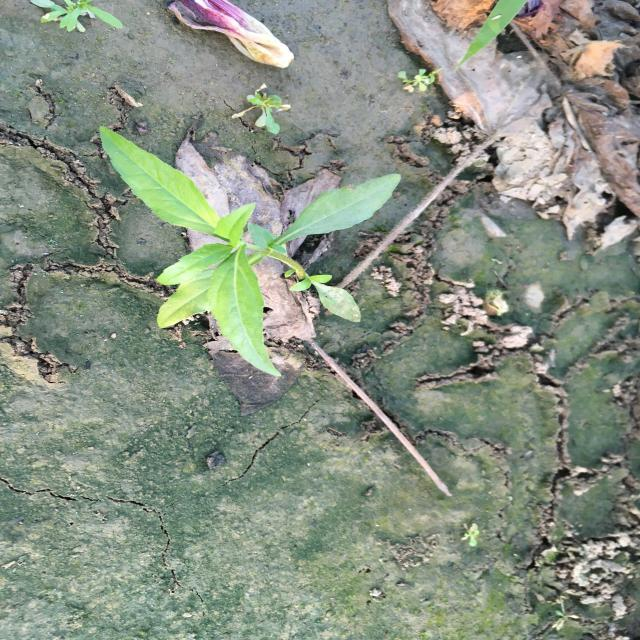Eclipta: (99, 125, 403, 378)
